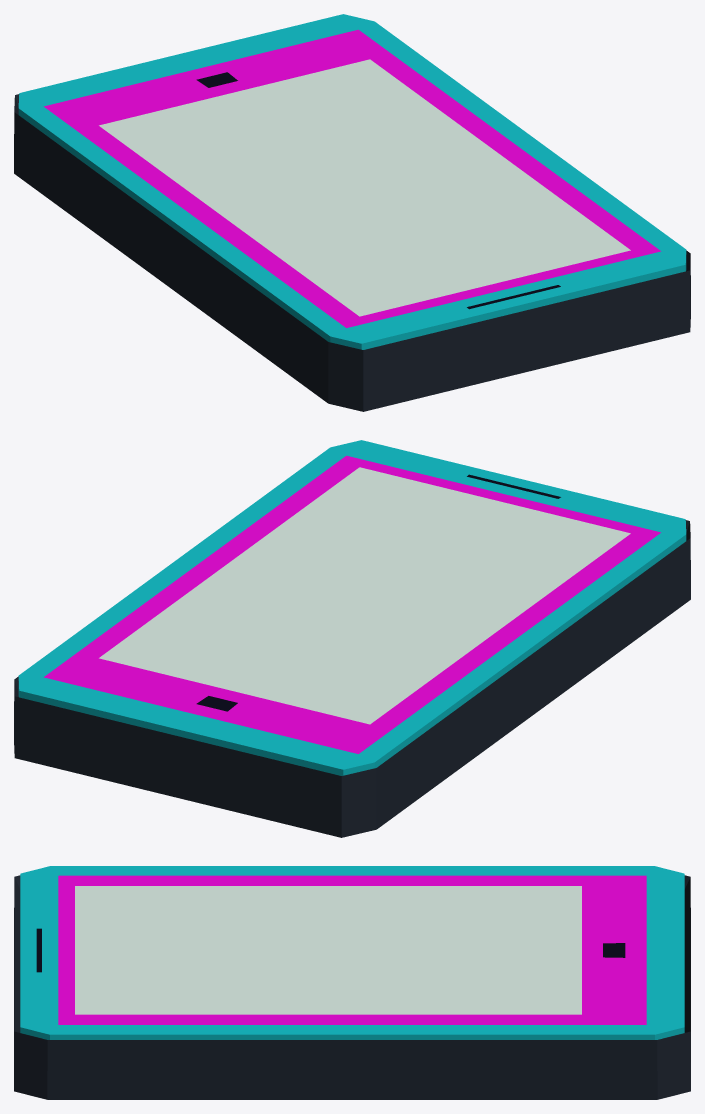
File: Theftable_Phone_Vaporwave.fbx
The picture shows the model from 3 angles, top to bottom: view 1: azimuth 30°, elevation 25°; view 2: azimuth 150°, elevation 25°; view 3: azimuth 270°, elevation 25°; orthographic projection. The views are drawn at different scales.
Visible parts, largest first — view 1: Cube.225; view 2: Cube.225; view 3: Cube.225.
Boxes of the visible parts, bbox=[...] form: Cube.225: bbox=[14, 14, 690, 411]; Cube.225: bbox=[14, 440, 690, 837]; Cube.225: bbox=[14, 866, 690, 1099].
Size of the model in its own units: 12.08 by 2.08 by 20.12.
